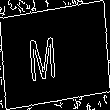M_N: (40, 28, 70, 82)
